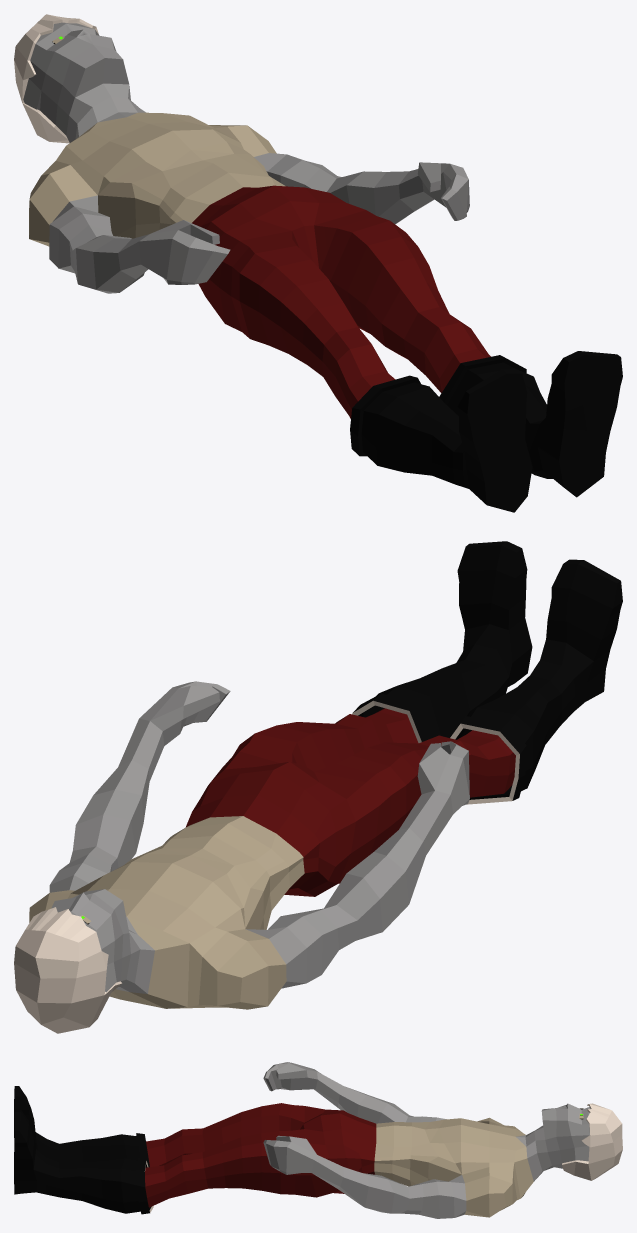
Rendered from talespalido.fbx.
3 renders of one model, top to bottom at view 1: azimuth 30°, elevation 25°; view 2: azimuth 150°, elevation 25°; view 3: azimuth 270°, elevation 25°, orthographic. The views are drawn at different scales.
Visible parts, largest first — view 1: Tales.001; view 2: Tales.001; view 3: Tales.001.
Boxes of the visible parts, x1,y1,x2,y2 form: Tales.001: (14, 14, 622, 512); Tales.001: (14, 541, 622, 1033); Tales.001: (14, 1062, 622, 1218).
Bounding box in the file's own units: 60.11 × 30.48 × 169.
